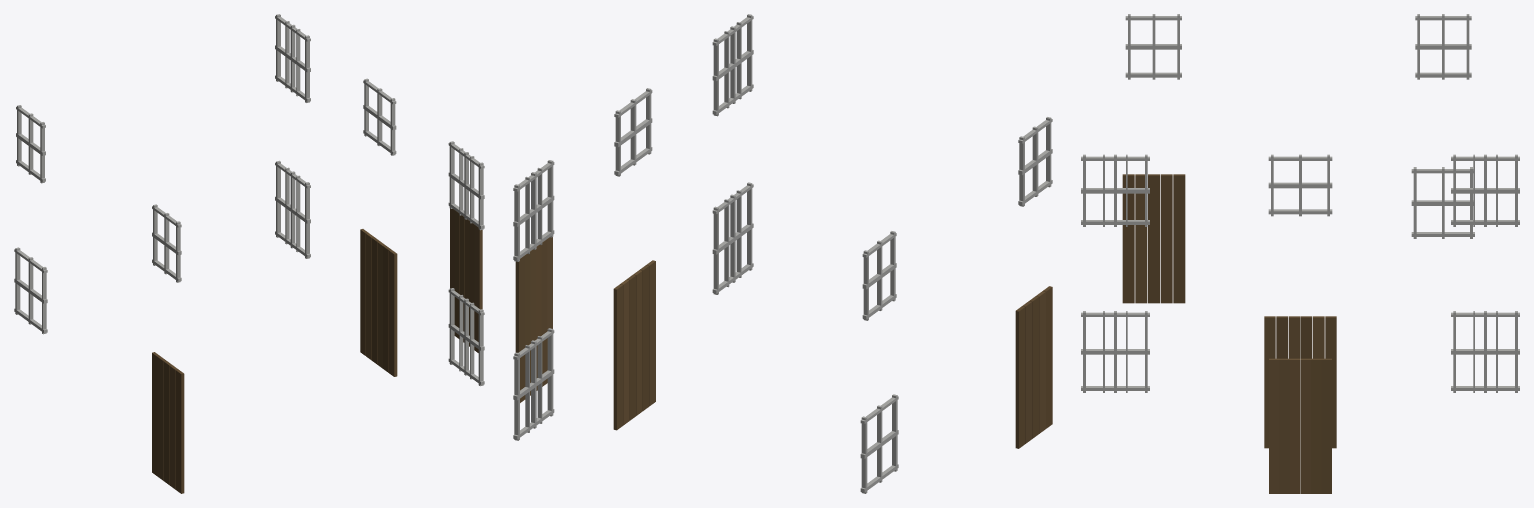
File: SM_Bld_133_Wood.glb
The picture shows the model from 3 angles, left to right: view 1: azimuth 30°, elevation 25°; view 2: azimuth 150°, elevation 25°; view 3: azimuth 270°, elevation 25°; orthographic projection. The views are drawn at different scales.
Parts seen in each view (by area): view 1: SM_Bld_133_Wood; view 2: SM_Bld_133_Wood; view 3: SM_Bld_133_Wood.
Boxes of the visible parts, x1,y1,x2,y2 form: SM_Bld_133_Wood: (14,14,484,493); SM_Bld_133_Wood: (513,14,1052,493); SM_Bld_133_Wood: (1081,14,1519,493).
Bounding box in the file's own units: 6.49 × 4.59 × 6.24.
